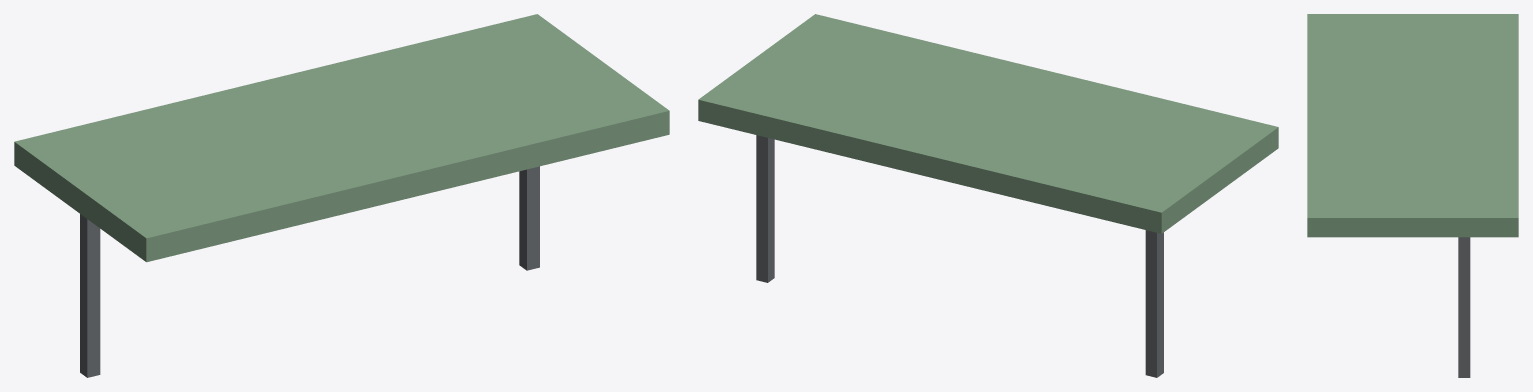
File: awning_01.glb
3 views of the same model, side by side, from view 1: azimuth 30°, elevation 25°; view 2: azimuth 150°, elevation 25°; view 3: azimuth 270°, elevation 25° (orthographic). The views are drawn at different scales.
Parts seen in each view (by area): view 1: canopy, brace-0.6719999999999999, brace0.6719999999999999; view 2: canopy, brace-0.6719999999999999, brace0.6719999999999999; view 3: canopy, brace0.6719999999999999.
Boxes of the visible parts, x1,y1,x2,y2 form: canopy: (14,14,669,262); brace-0.6719999999999999: (80,214,100,377); brace0.6719999999999999: (519,166,539,270); canopy: (698,14,1278,233); brace-0.6719999999999999: (1145,230,1163,377); brace0.6719999999999999: (756,135,774,282); canopy: (1307,14,1518,237); brace0.6719999999999999: (1458,237,1470,377).
Size of the model in its own units: 1.6 by 0.635 by 0.7.
